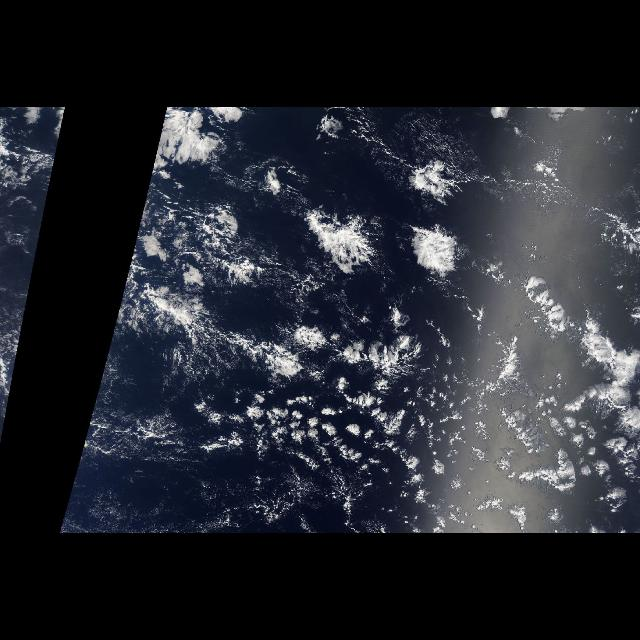Flower: (168, 115, 632, 405)
